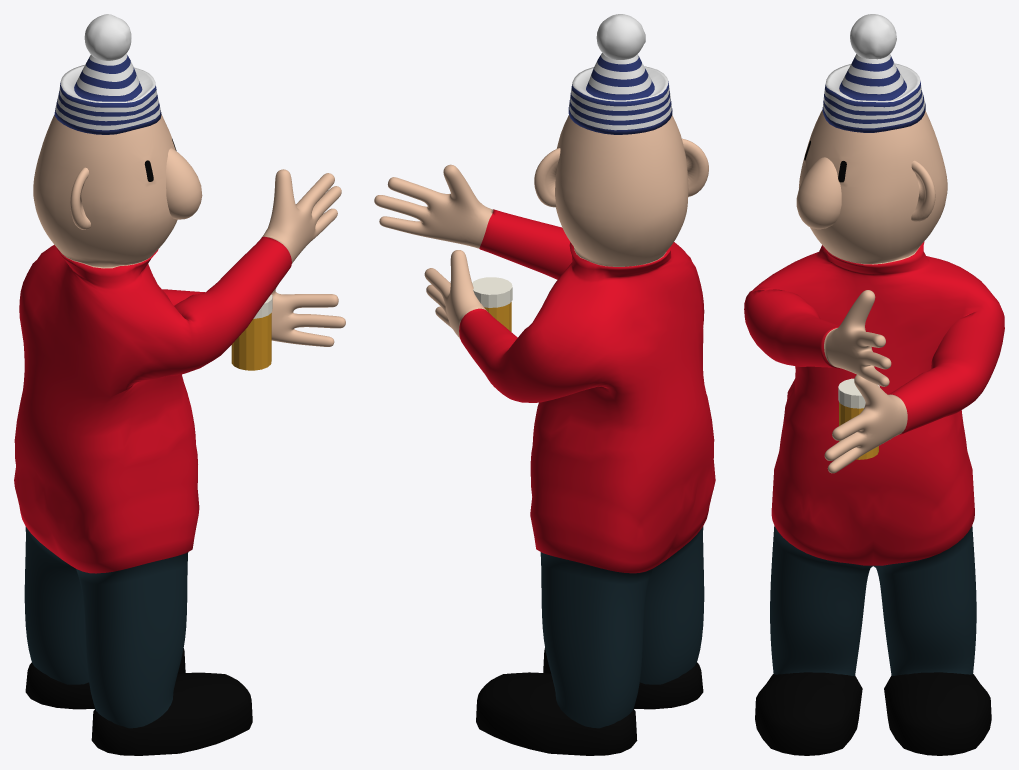
Rendered from mat_toci.glb.
3 views of the same model, side by side, from view 1: azimuth 30°, elevation 25°; view 2: azimuth 150°, elevation 25°; view 3: azimuth 270°, elevation 25° (orthographic).
Size of the model in its own units: 0.7432 by 1.62 by 0.549.
